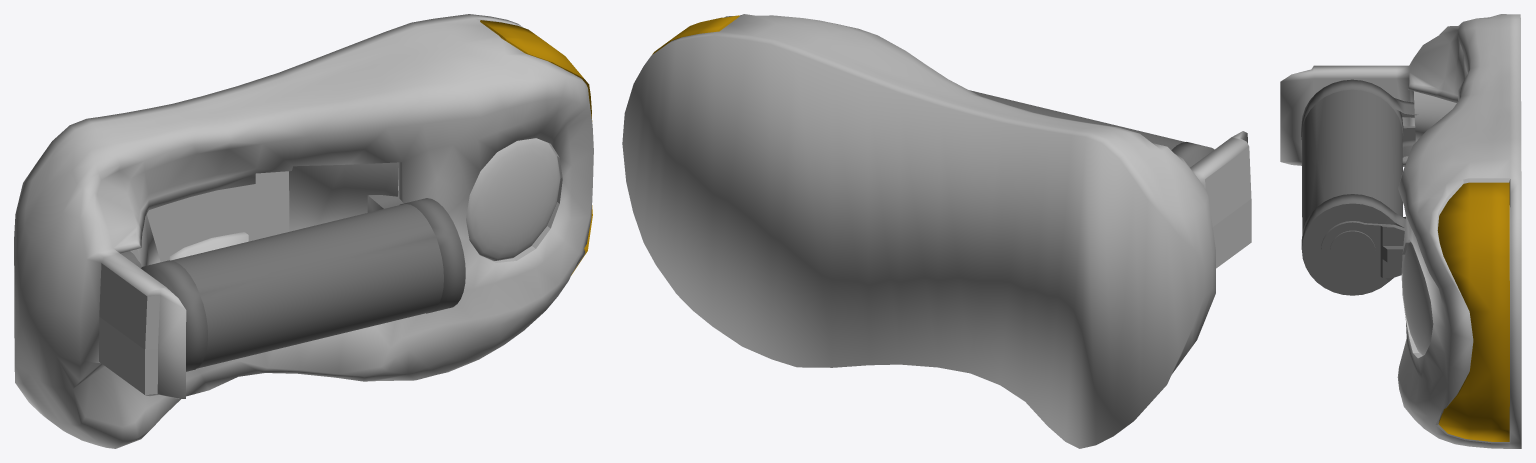
File: LAnkleRoll.dae
3 renders of one model, left to right at view 1: azimuth 30°, elevation 25°; view 2: azimuth 150°, elevation 25°; view 3: azimuth 270°, elevation 25°, orthographic. The views are drawn at different scales.
Visible parts, largest first — view 1: root_018; view 2: root_018; view 3: root_018.
Part boxes in pixels (x1=…): root_018: x1=14, y1=14, x2=593, y2=448; root_018: x1=622, y1=14, x2=1251, y2=448; root_018: x1=1280, y1=14, x2=1521, y2=448.
Bounding box in the file's own units: 160 × 64.67 × 90.49.
